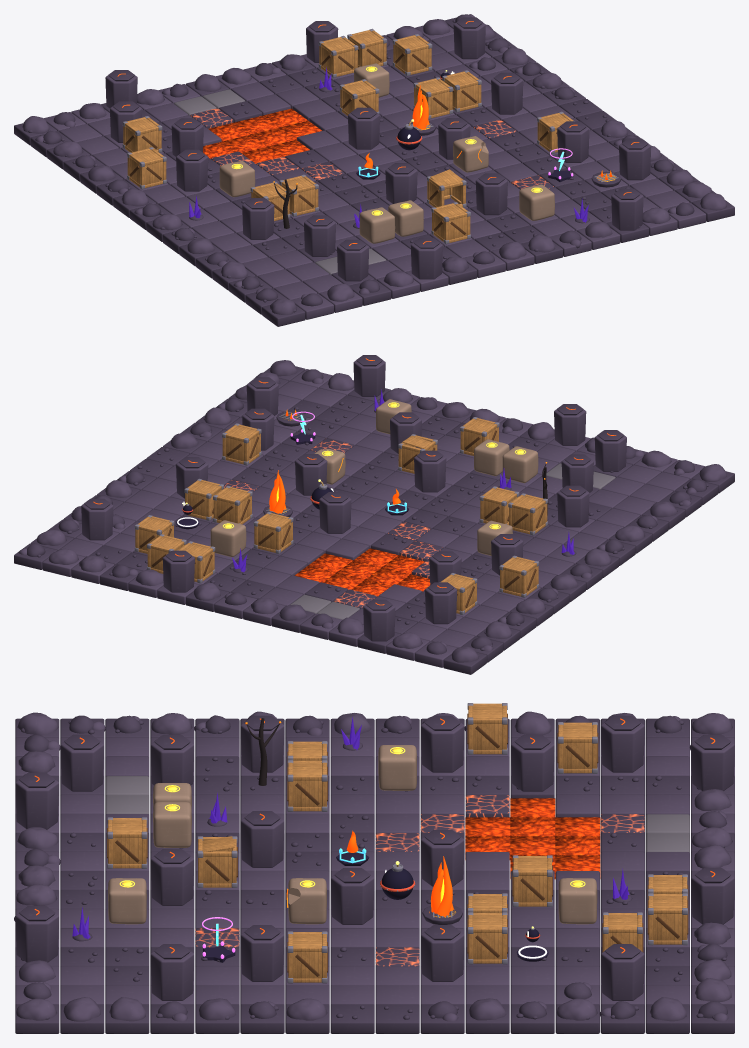
Rendered from vol_exploration_01.glb.
3 views of the same model, one above another, from view 1: azimuth 30°, elevation 25°; view 2: azimuth 150°, elevation 25°; view 3: azimuth 270°, elevation 25° (orthographic). The views are drawn at different scales.
Parts seen in each view (by area): view 1: vol_exploration_01_crate_wood_1_10, vol_exploration_01_crate_wood_12_13, vol_exploration_01_crate_wood_7_2, vol_exploration_01_crate_wood_10_14, vol_exploration_01_vol_solid_column_5_0, vol_exploration_01_vol_solid_column_14_13, vol_exploration_01_vol_solid_column_8_9, vol_exploration_01_vol_solid_column_13_9, vol_exploration_01_vol_solid_column_2_9, vol_exploration_01_vol_solid_column_3_1, vol_exploration_01_vol_solid_column_12_0, vol_exploration_01_vol_solid_column_9_3 (+34 smaller); view 2: vol_exploration_01_crate_wood_1_10, vol_exploration_01_crate_wood_9_11, vol_exploration_01_crate_wood_13_6, vol_exploration_01_crate_wood_3_6, vol_exploration_01_crate_wood_11_10, vol_exploration_01_vol_solid_column_14_13, vol_exploration_01_vol_solid_column_7_5, vol_exploration_01_vol_solid_column_10_15, vol_exploration_01_vol_solid_column_2_5, vol_exploration_01_vol_solid_column_3_15, vol_exploration_01_vol_solid_column_2_13, vol_exploration_01_vol_solid_column_12_0 (+31 smaller); view 3: vol_exploration_01_vol_solid_column_2_9, vol_exploration_01_vol_solid_column_3_1, vol_exploration_01_vol_solid_column_2_13, vol_exploration_01_vol_solid_column_3_11, vol_exploration_01_vol_solid_column_13_5, vol_exploration_01_vol_solid_column_9_3, vol_exploration_01_vol_solid_column_7_5, vol_exploration_01_vol_solid_column_10_7, vol_exploration_01_vol_solid_column_14_3, vol_exploration_01_vol_solid_column_13_9, vol_exploration_01_vol_solid_column_14_13, vol_exploration_01_vol_solid_column_5_0 (+181 smaller).
Boxes of the visible parts, x1,y1,x2,y2 form: vol_exploration_01_crate_wood_1_10: [127, 147, 166, 189]; vol_exploration_01_crate_wood_12_13: [392, 34, 432, 76]; vol_exploration_01_crate_wood_7_2: [431, 202, 470, 244]; vol_exploration_01_crate_wood_10_14: [318, 35, 358, 77]; vol_exploration_01_vol_solid_column_5_0: [410, 237, 442, 279]; vol_exploration_01_vol_solid_column_14_13: [453, 17, 485, 59]; vol_exploration_01_vol_solid_column_8_9: [348, 107, 379, 149]; vol_exploration_01_vol_solid_column_13_9: [491, 72, 523, 114]; vol_exploration_01_vol_solid_column_2_9: [176, 149, 208, 191]; vol_exploration_01_vol_solid_column_3_1: [337, 239, 369, 281]; vol_exploration_01_vol_solid_column_12_0: [611, 188, 643, 230]; vol_exploration_01_vol_solid_column_9_3: [475, 173, 507, 215]; vol_exploration_01_crate_wood_1_10: [499, 555, 539, 597]; vol_exploration_01_crate_wood_9_11: [253, 511, 293, 553]; vol_exploration_01_crate_wood_13_6: [222, 423, 261, 465]; vol_exploration_01_crate_wood_3_6: [508, 493, 547, 535]; vol_exploration_01_crate_wood_11_10: [213, 485, 252, 524]; vol_exploration_01_vol_solid_column_14_13: [81, 498, 113, 540]; vol_exploration_01_vol_solid_column_7_5: [414, 450, 446, 492]; vol_exploration_01_vol_solid_column_10_15: [162, 550, 194, 592]; vol_exploration_01_vol_solid_column_2_5: [557, 485, 589, 527]; vol_exploration_01_vol_solid_column_3_15: [363, 599, 395, 641]; vol_exploration_01_vol_solid_column_2_13: [425, 582, 457, 624]; vol_exploration_01_vol_solid_column_12_0: [353, 355, 385, 396]; vol_exploration_01_vol_solid_column_2_9: [420, 715, 464, 772]; vol_exploration_01_vol_solid_column_3_1: [60, 734, 104, 791]; vol_exploration_01_vol_solid_column_2_13: [601, 715, 644, 772]; vol_exploration_01_vol_solid_column_3_11: [510, 734, 554, 791]; vol_exploration_01_vol_solid_column_13_5: [240, 925, 284, 981]; vol_exploration_01_vol_solid_column_9_3: [150, 849, 194, 905]; vol_exploration_01_vol_solid_column_7_5: [240, 811, 284, 867]; vol_exploration_01_vol_solid_column_10_7: [330, 868, 374, 924]; vol_exploration_01_vol_solid_column_14_3: [150, 944, 194, 1000]; vol_exploration_01_vol_solid_column_13_9: [420, 925, 464, 981]; vol_exploration_01_vol_solid_column_14_13: [601, 944, 644, 1000]; vol_exploration_01_vol_solid_column_5_0: [15, 772, 59, 829].
Bounding box in the file's own units: 15.98 × 1.91 × 16.01.
Materials: 27 (7 with a texture image).
